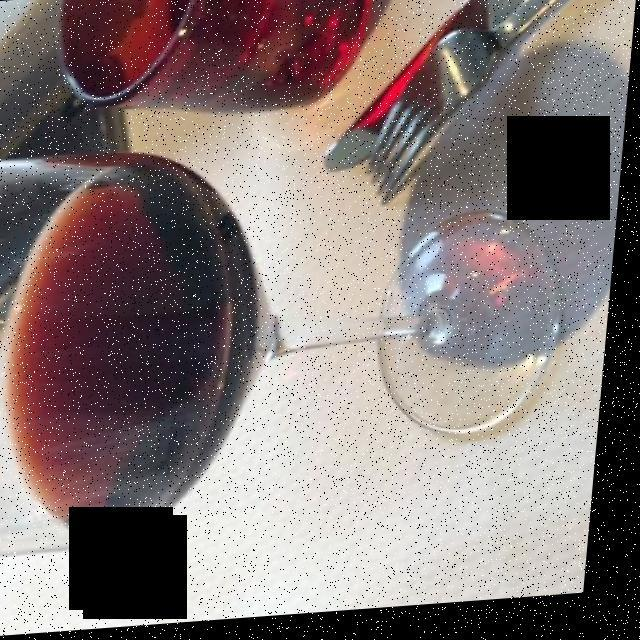wine: (17, 182, 256, 526)
